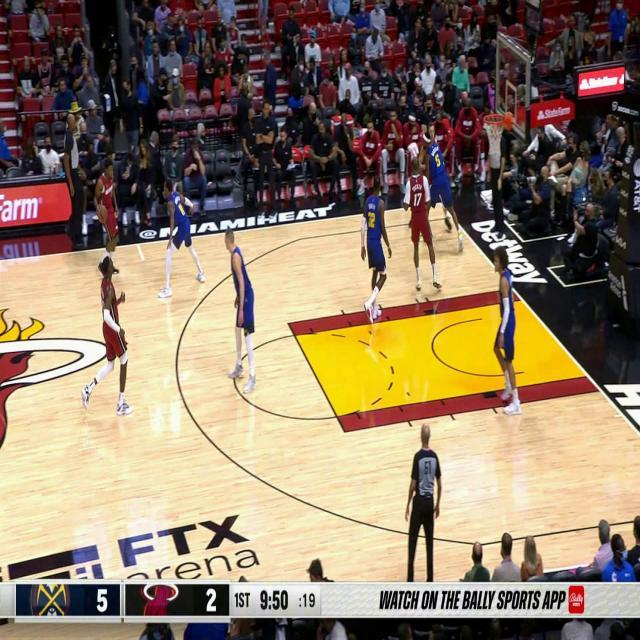rim: (98, 206, 109, 223)
